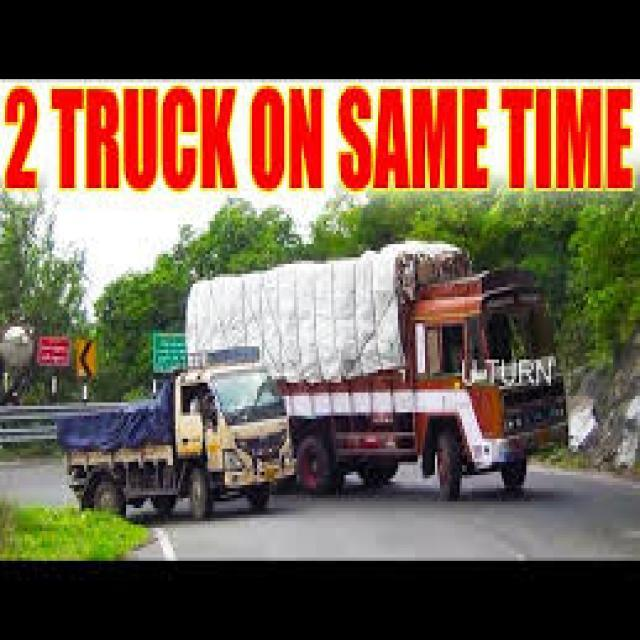covered: (188, 248, 570, 498), (52, 362, 287, 514)
